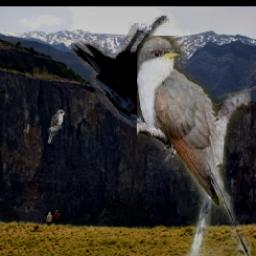Crow: (71, 14, 194, 150)
Cuckoo: (138, 36, 252, 256), (48, 110, 66, 145)
